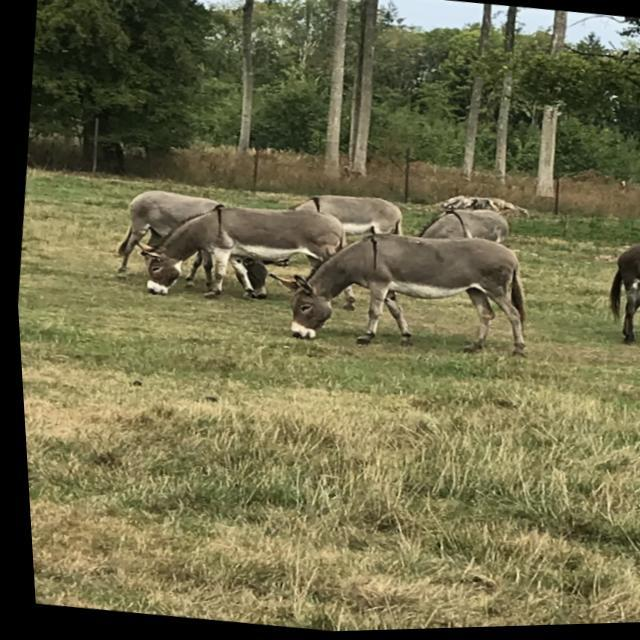Donkey: (249, 211, 536, 369), (118, 186, 363, 320), (104, 182, 276, 306), (274, 185, 404, 242), (402, 199, 510, 250), (593, 240, 640, 354)
